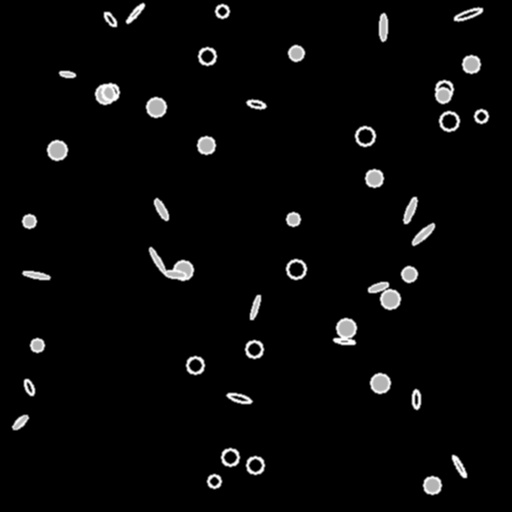pseudomonas: (411, 222, 435, 246), (147, 246, 167, 274), (454, 6, 482, 22), (125, 2, 145, 24), (402, 197, 418, 223), (451, 454, 467, 478), (226, 391, 252, 405), (153, 198, 169, 220), (11, 413, 29, 431), (249, 294, 261, 320), (367, 280, 389, 294), (23, 270, 49, 280), (102, 11, 118, 27), (23, 378, 35, 396), (379, 14, 387, 40), (246, 99, 266, 109), (165, 270, 185, 278), (334, 337, 354, 345), (412, 390, 420, 408), (59, 70, 75, 78)
synechocystis: (356, 127, 374, 145), (381, 290, 399, 308), (287, 260, 305, 278), (48, 141, 66, 159), (96, 85, 114, 103), (337, 319, 355, 337), (174, 261, 192, 279), (371, 374, 389, 392), (147, 98, 165, 116), (440, 112, 458, 130), (436, 81, 452, 97), (366, 170, 382, 186), (222, 449, 238, 465), (199, 48, 215, 64), (463, 56, 479, 72), (247, 457, 263, 473), (102, 84, 118, 100), (198, 137, 214, 153), (424, 477, 440, 493), (187, 357, 203, 373), (246, 341, 262, 357), (289, 46, 303, 60), (436, 88, 450, 102), (402, 267, 416, 281), (208, 475, 220, 487), (287, 213, 299, 225), (216, 5, 228, 17), (23, 215, 35, 227), (31, 339, 43, 351), (475, 110, 487, 122)
